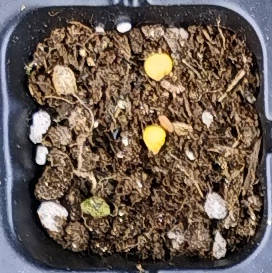pepper seed: (58, 45, 225, 201), (57, 12, 231, 94)
